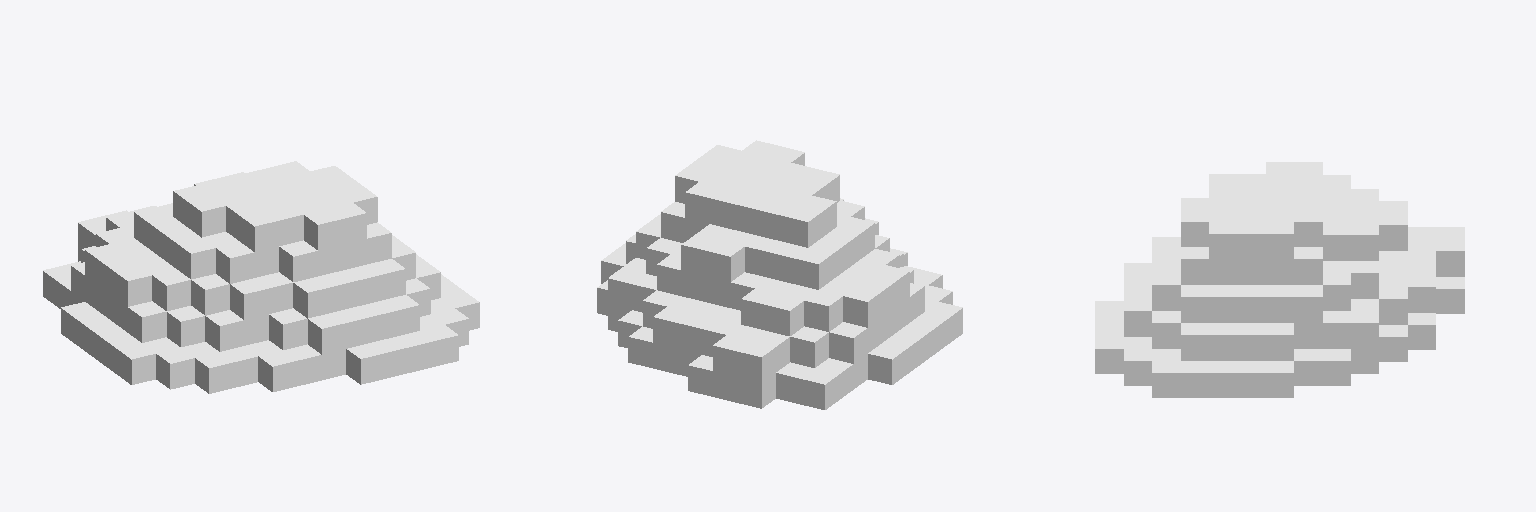
The model's file is rock_small_1.obj.
3 renders of one model, left to right at view 1: azimuth 30°, elevation 25°; view 2: azimuth 150°, elevation 25°; view 3: azimuth 270°, elevation 25°, orthographic.
Visible parts, largest first — view 1: object 1; view 2: object 1; view 3: object 1.
Part boxes in pixels (bbox=[...]): object 1: bbox=[43, 161, 479, 393]; object 1: bbox=[597, 140, 962, 409]; object 1: bbox=[1095, 162, 1464, 397].
Bounding box in the file's own units: 1.3 × 0.5 × 1.3.